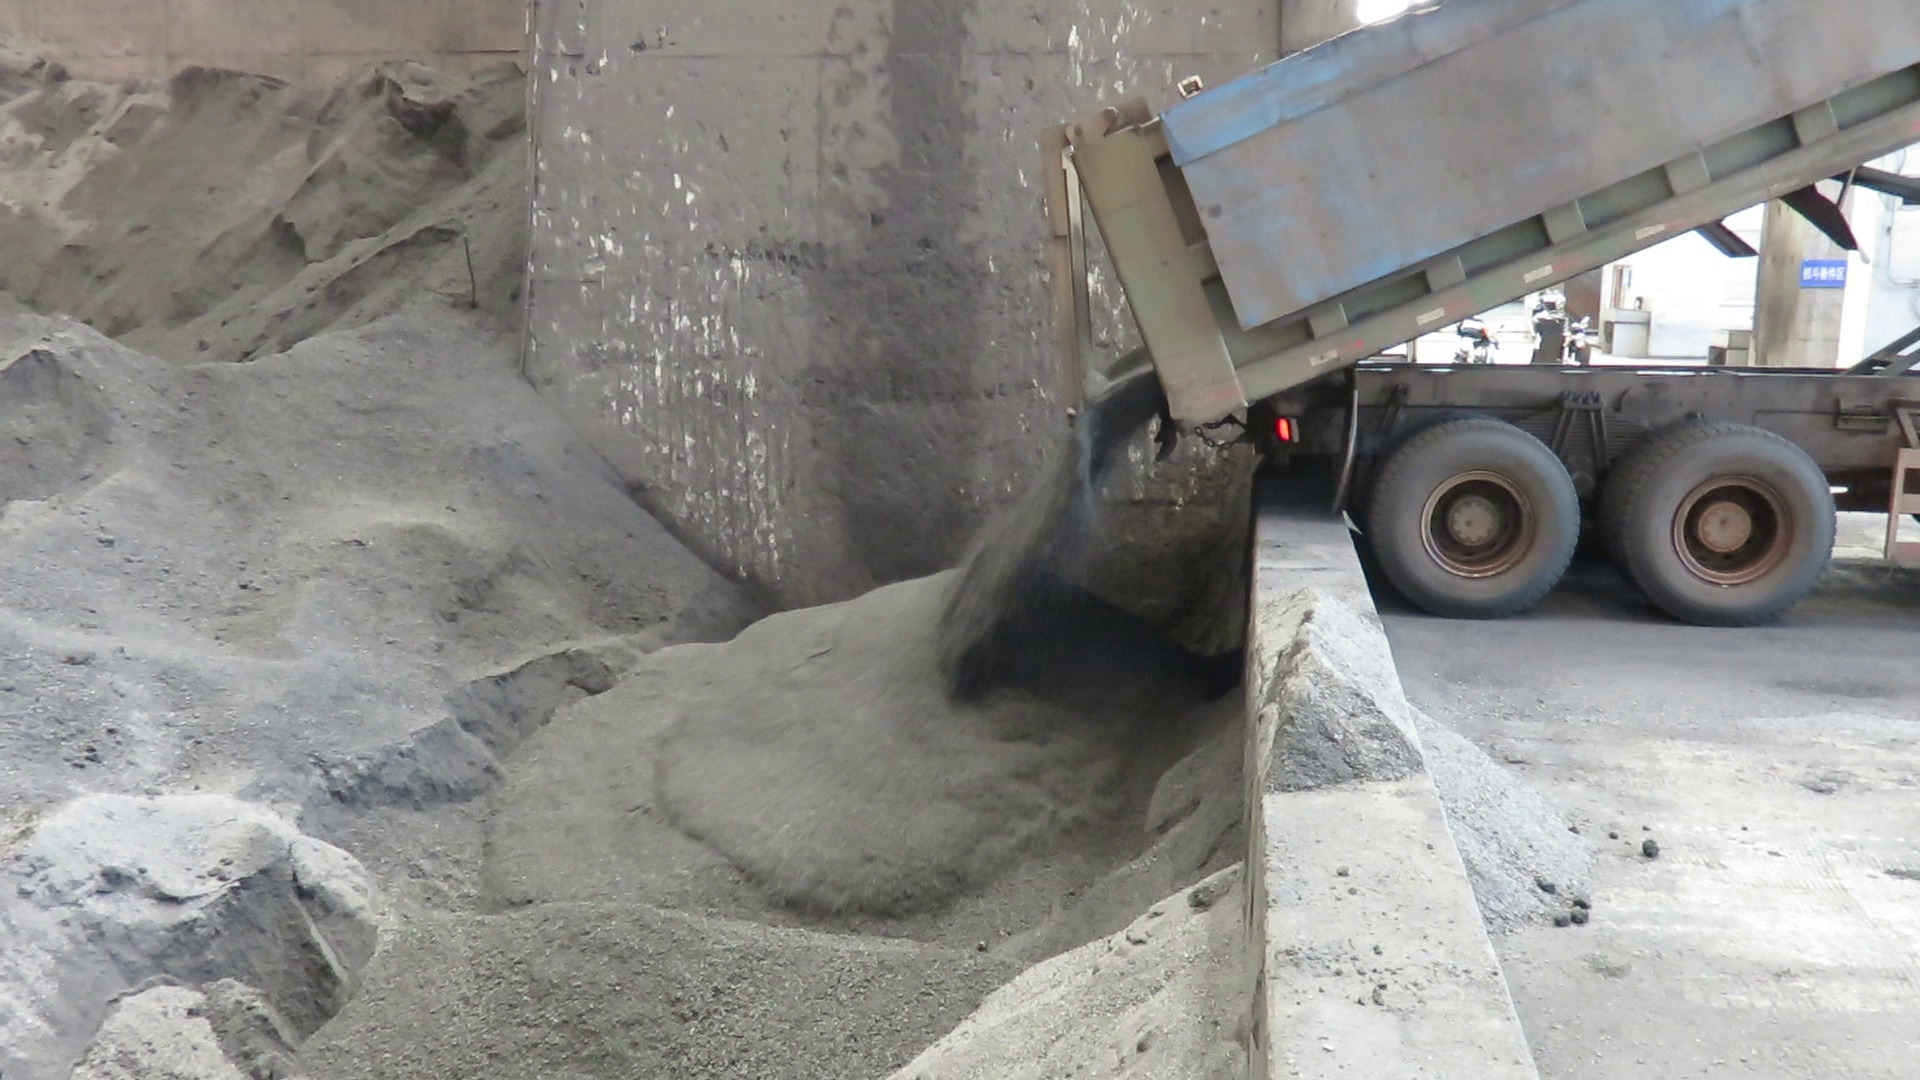truck: (1042, 0, 1920, 647)
